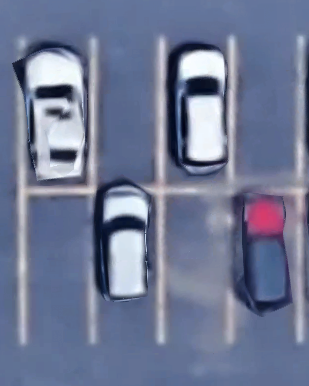Occupied: (22, 39, 93, 192), (161, 38, 232, 190), (93, 191, 162, 342), (232, 190, 301, 341)
Vacant: (161, 190, 231, 343), (231, 38, 301, 191), (93, 39, 161, 191), (23, 193, 92, 342)
